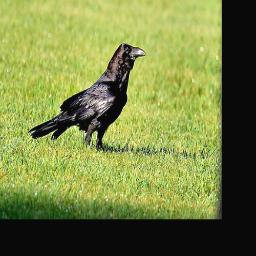Crow: (27, 41, 148, 153)
